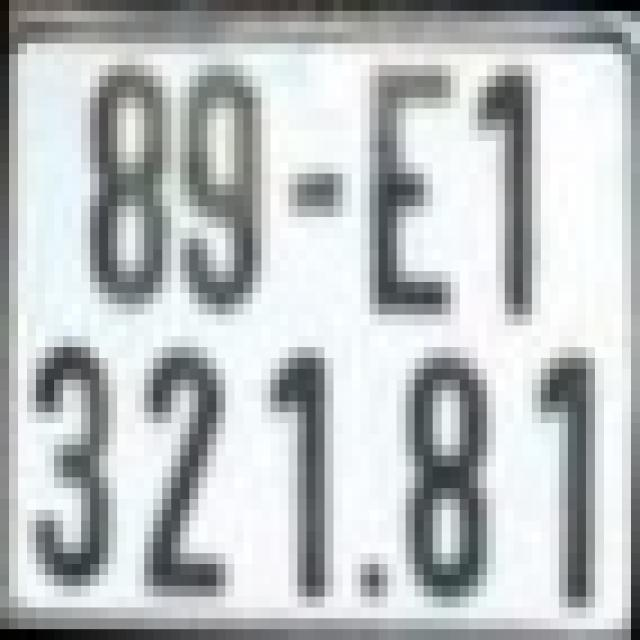1: (541, 347, 604, 608), (270, 347, 334, 597), (478, 65, 541, 315)
2: (144, 347, 234, 597)
3: (27, 347, 117, 586)
8: (406, 347, 486, 597), (90, 65, 171, 304)
9: (180, 65, 262, 304)
E: (370, 65, 450, 315)
